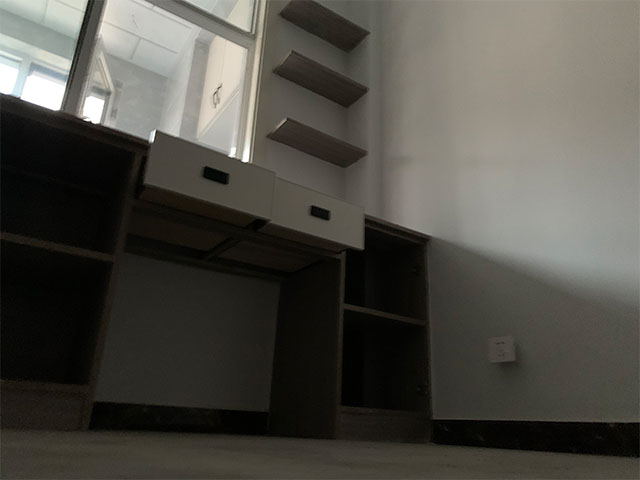cabinet: (1, 92, 434, 445)
